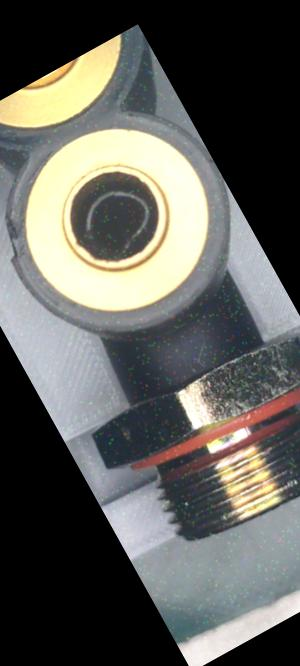bump: (1, 212, 33, 265)
joint line: (168, 330, 193, 363)
off-centered: (62, 168, 170, 272)
white mark: (188, 331, 222, 369), (180, 356, 200, 377)
